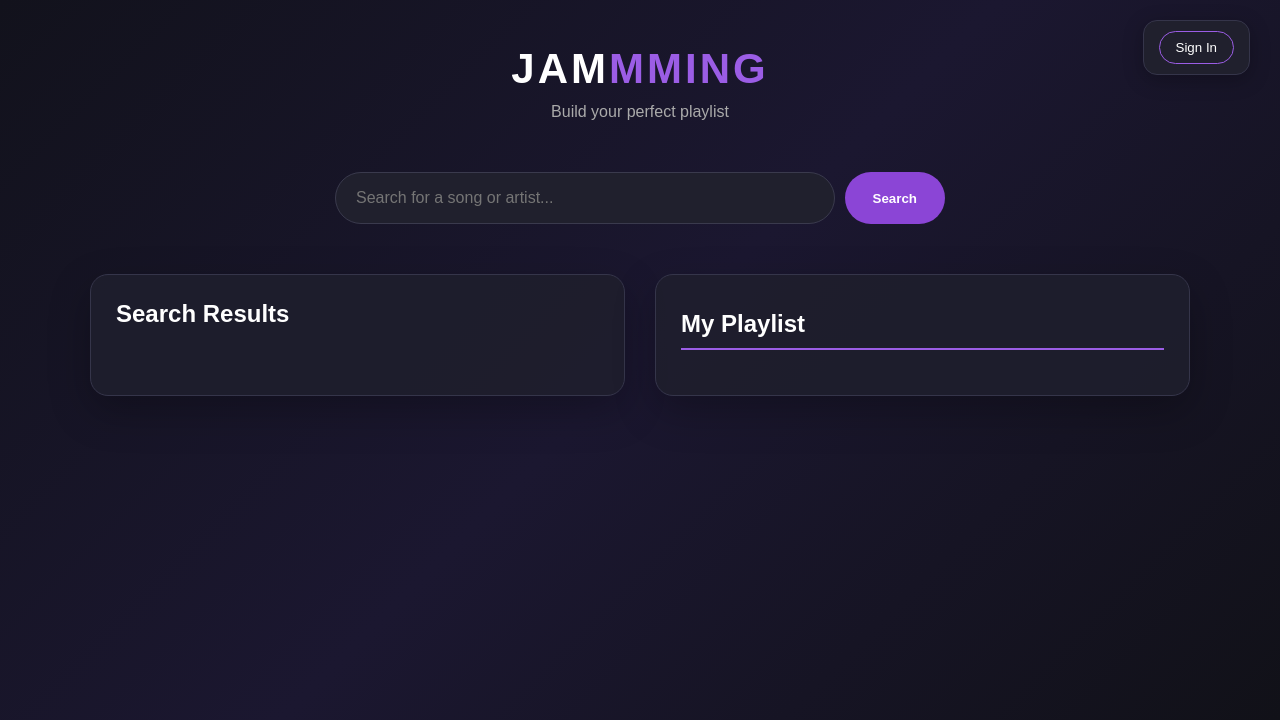
Jammming App › searches Audius and displays results
The width and height of the screenshot is (1280, 720).
Type "Song" into the field with placeholder "Search for a song or artist..." at (585, 198), box [335,172,834,224]
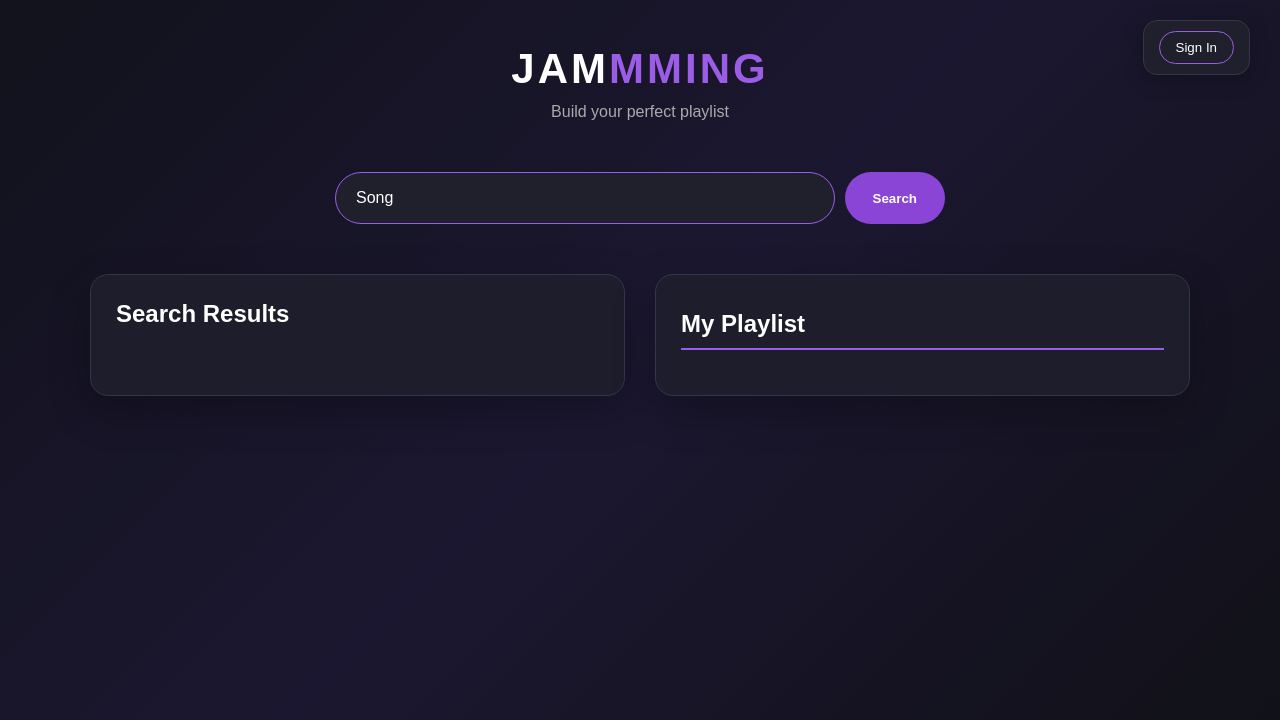
Click the button "Search" at (895, 198), box [844,172,945,224]
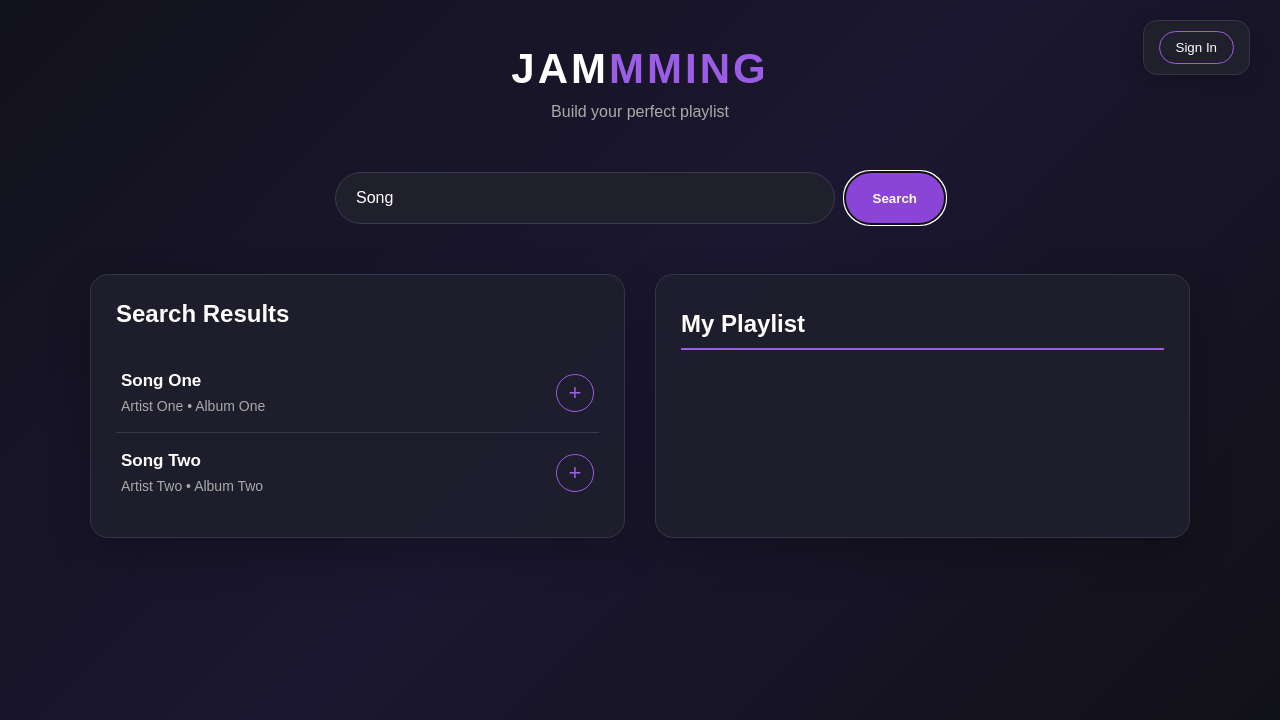
Now the heading "Song One" is shown, box [121,371,201,390]
Now the heading "Song Two" is shown, box [121,451,201,470]
